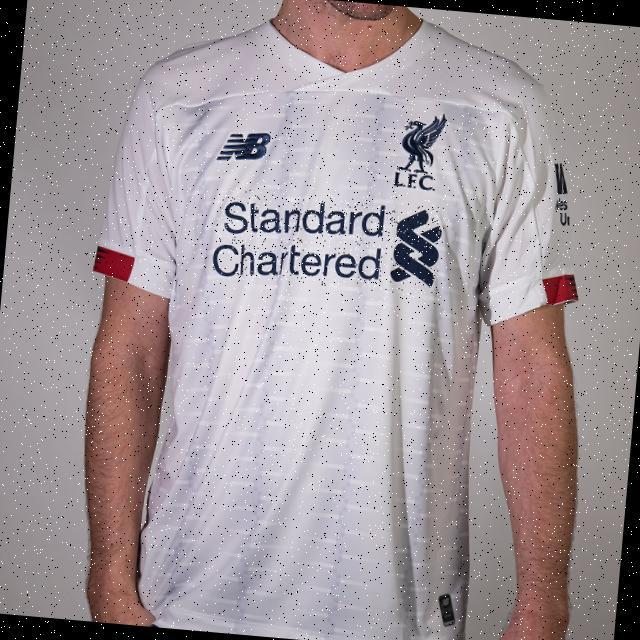Standard Chartered: (211, 187, 446, 297)
